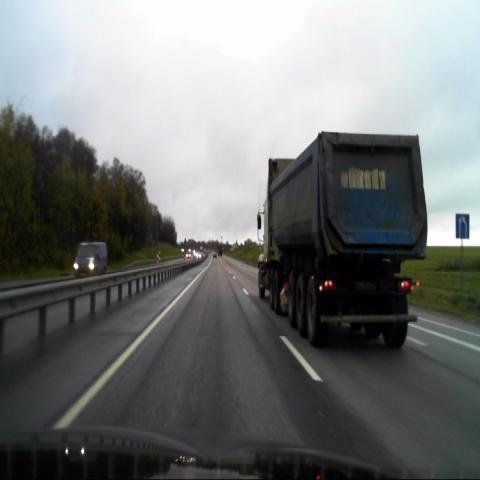5_15_5: (456, 213, 469, 238)
